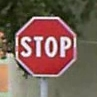stop: (15, 15, 77, 78)
